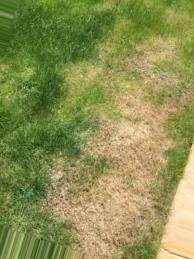patch: (107, 122, 149, 194), (89, 202, 116, 237), (154, 117, 176, 155), (63, 195, 80, 229), (118, 94, 146, 114), (125, 202, 147, 221), (162, 47, 180, 55), (90, 241, 105, 250), (166, 99, 172, 110)
